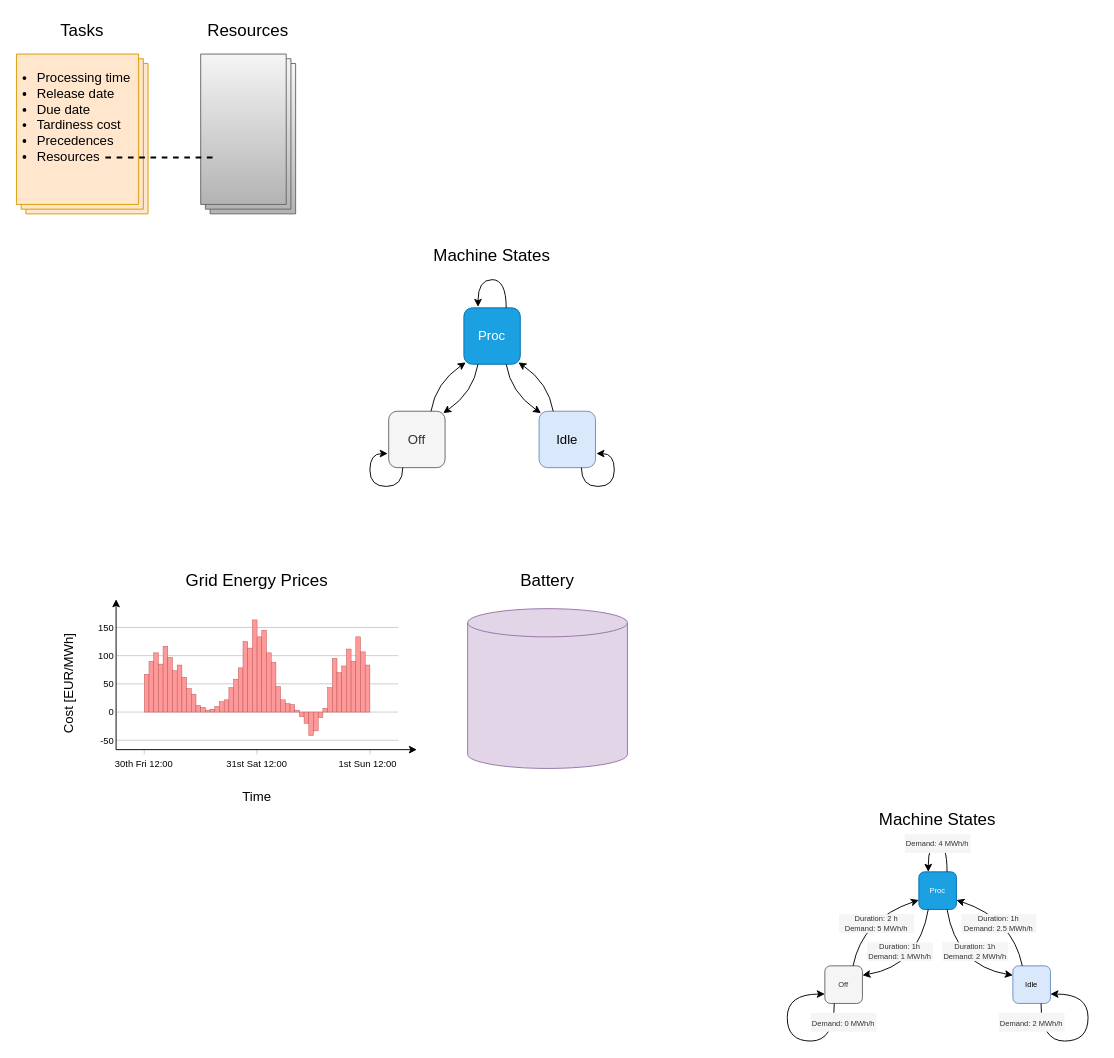
The diagram is 1114 pixels wide and 1058 high, and some of its shapes have lost their labels. Here are the shapes that lost their labels. From the top down, the centre of each, then its label:
the point at 248,133: Capacity
the point at 547,688: Capacity Charging efficiency Discharging efficiency
